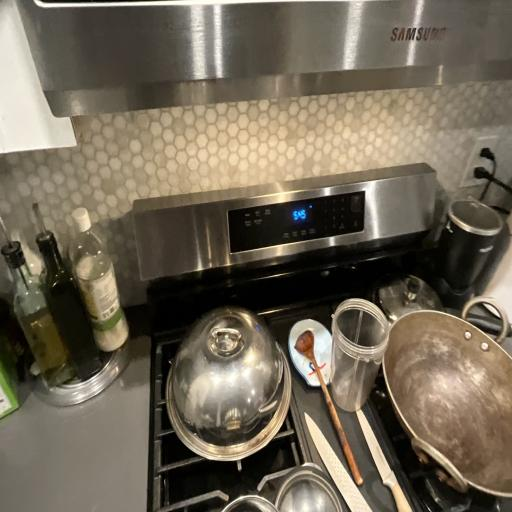Pan: (383, 265, 512, 507)
Stove: (120, 179, 498, 512)
knife: (341, 394, 427, 508), (287, 403, 372, 512)
